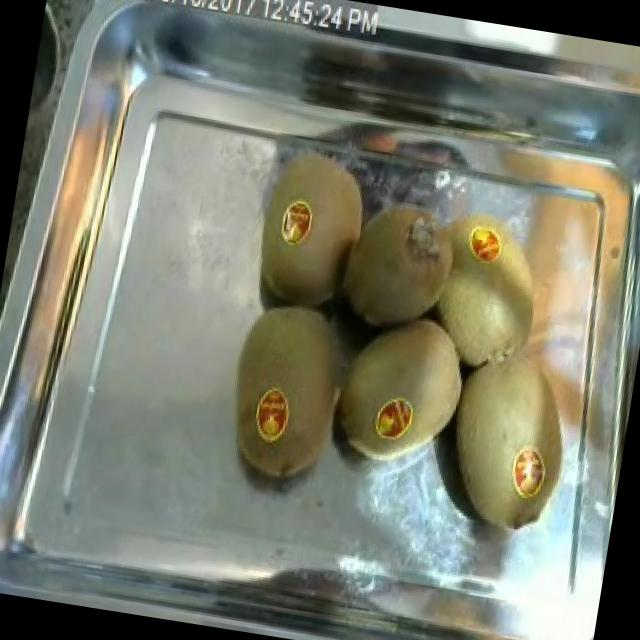Fruit: (424, 336, 588, 551), (206, 286, 367, 500), (234, 133, 387, 331), (328, 180, 467, 350)
